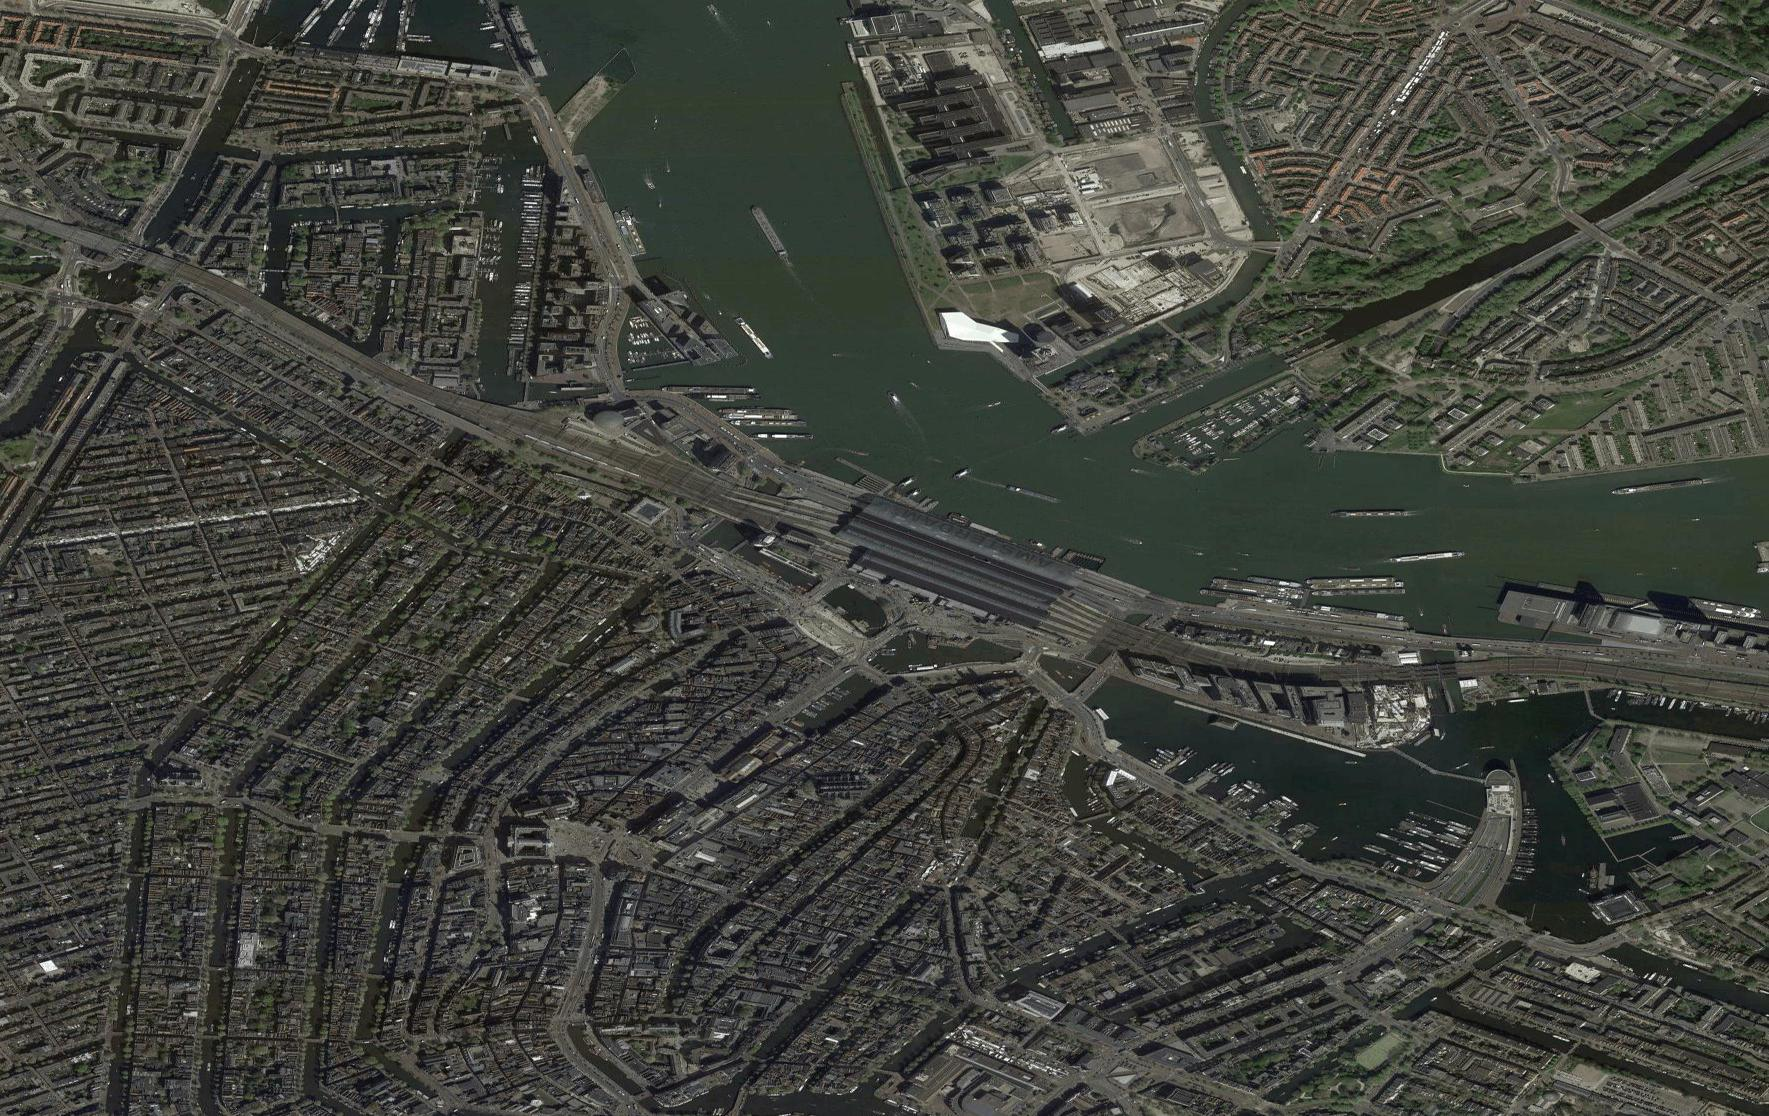train_station: (786, 465, 1134, 651)
